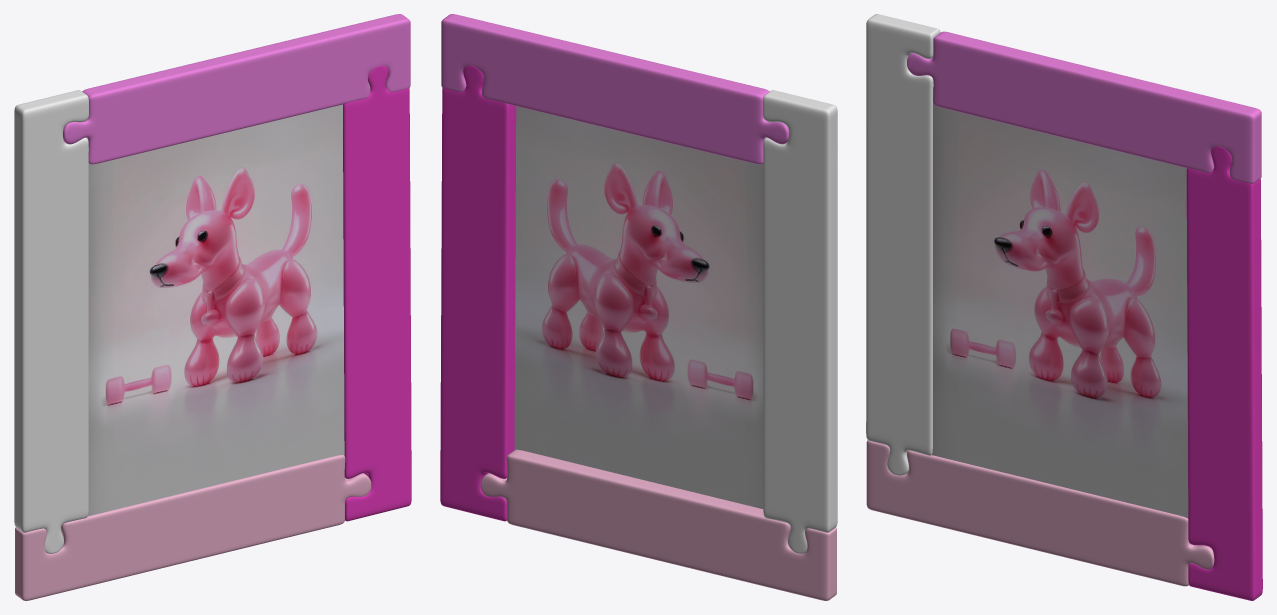
File: frame1.glb
3 renders of one model, left to right at view 1: azimuth 30°, elevation 25°; view 2: azimuth 150°, elevation 25°; view 3: azimuth 330°, elevation 25°, orthographic.
Visible parts, largest first — view 1: Plane.009; view 2: Plane.009; view 3: Plane.009.
Boxes of the visible parts, box(x1,y1,x2,y2) form: Plane.009: box(14, 14, 411, 600); Plane.009: box(440, 14, 837, 600); Plane.009: box(866, 14, 1262, 600).
Size of the model in its own units: 9.08 by 10.94 by 0.4076.
Materials: 5 (1 with a texture image).
